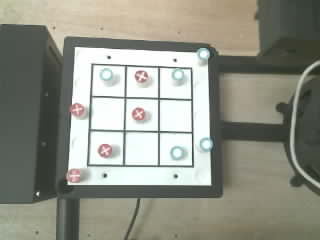blue circle: (170, 146, 184, 159), (200, 137, 212, 151), (197, 48, 209, 60), (100, 68, 112, 80), (172, 69, 183, 80)
board: (67, 47, 213, 185)
cells: (125, 132, 158, 165), (89, 132, 123, 164), (160, 133, 192, 165), (160, 100, 192, 131), (91, 98, 123, 129), (92, 65, 124, 96), (126, 99, 158, 130), (127, 67, 158, 97), (160, 68, 191, 98)
grid: (87, 63, 193, 167)
red cross: (69, 103, 84, 116), (135, 70, 149, 83), (66, 169, 80, 182), (98, 144, 111, 157), (132, 107, 144, 120)
